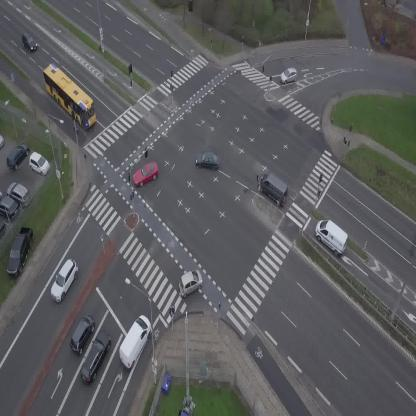bus: (34, 60, 105, 131)
car: (76, 328, 116, 387), (44, 257, 84, 304), (65, 312, 100, 357), (173, 266, 208, 299), (129, 160, 163, 189), (17, 31, 41, 54), (195, 151, 220, 170), (279, 67, 298, 84)
lorry: (113, 313, 157, 370), (309, 215, 355, 258), (253, 168, 296, 209)
